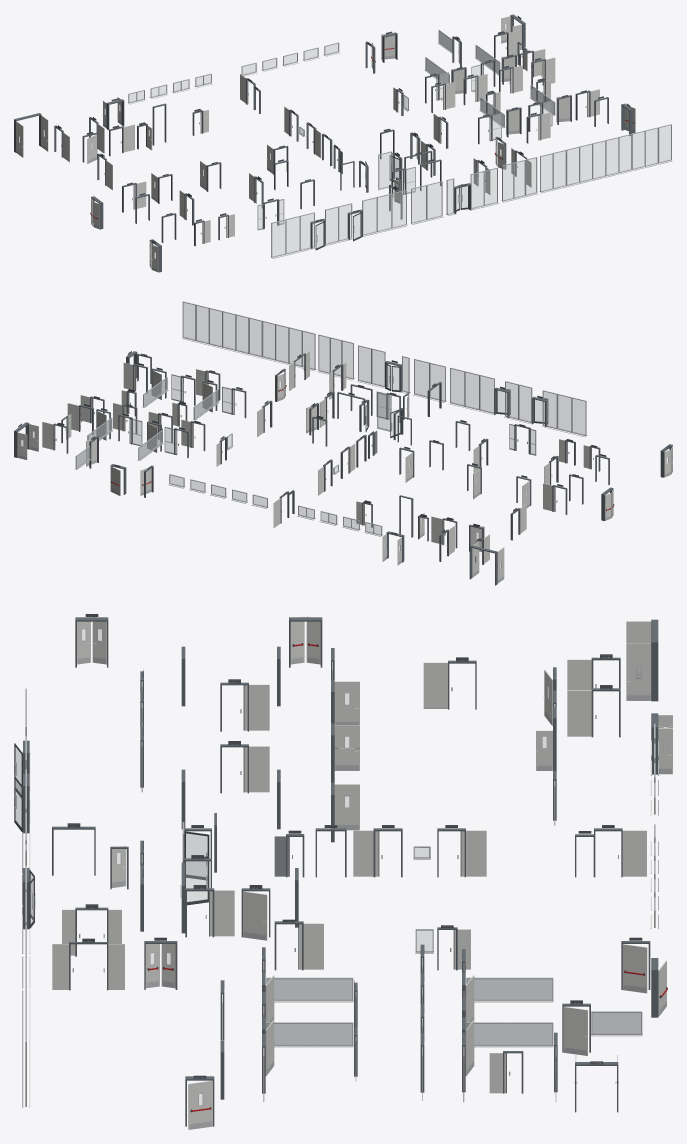
File: 09_n1_puertas.glb
3 views of the same model, one above another, from view 1: azimuth 30°, elevation 25°; view 2: azimuth 150°, elevation 25°; view 3: azimuth 270°, elevation 25° (orthographic). The views are drawn at different scales.
Parts seen in each view (by area): view 1: Puerta N1 · 10, Ventana N1 · 87, Ventana N1 · 86, Ventana N1 · 78, Ventana N1 · 84, Ventana N1 · 83, Ventana N1 · 85, Ventana N1 · 79, Ventana N1 · 94, Ventana N1 · 96, Ventana N1 · 102, Ventana N1 · 99 (+34 smaller); view 2: Puerta N1 · 10, Puerta N1 · 00, Ventana N1 · 83, Ventana N1 · 78, Ventana N1 · 84, Ventana N1 · 87, Ventana N1 · 85, Ventana N1 · 79, Ventana N1 · 86, Ventana N1 · 80, Ventana N1 · 97, Ventana N1 · 98 (+26 smaller); view 3: Puerta N1 · 10, Ventana N1 · 105, Ventana N1 · 107, Ventana N1 · 106, Ventana N1 · 108, Puerta N1 · 19, Puerta N1 · 54, Puerta N1 · 51, Puerta N1 · 44, Puerta N1 · 40, Puerta N1 · 55, Puerta N1 · 08 (+25 smaller).
Boxes of the visible parts, x1,y1,x2,y2 form: Puerta N1 · 10: (14,113,48,157); Ventana N1 · 87: (427,181,443,220); Ventana N1 · 86: (410,185,427,224); Ventana N1 · 78: (270,219,286,258); Ventana N1 · 84: (377,193,392,232); Ventana N1 · 83: (362,197,378,236); Ventana N1 · 85: (392,190,407,229); Ventana N1 · 79: (286,216,301,255); Ventana N1 · 94: (539,153,554,193); Ventana N1 · 96: (566,146,580,186); Ventana N1 · 102: (645,127,659,167); Ventana N1 · 99: (606,137,619,177); Puerta N1 · 10: (469,541,504,585); Puerta N1 · 00: (14,422,38,459); Ventana N1 · 83: (478,375,494,414); Ventana N1 · 78: (571,397,587,437); Ventana N1 · 84: (464,371,479,410); Ventana N1 · 87: (413,359,429,398); Ventana N1 · 85: (449,367,464,407); Ventana N1 · 79: (556,394,571,433); Ventana N1 · 86: (429,362,446,402); Ventana N1 · 80: (542,390,557,429); Ventana N1 · 97: (261,321,275,361); Ventana N1 · 98: (248,317,262,357); Puerta N1 · 10: (626,619,658,701); Ventana N1 · 105: (466,977,553,1002); Ventana N1 · 107: (266,977,353,1002); Ventana N1 · 106: (466,1022,553,1047); Ventana N1 · 108: (266,1022,353,1047); Puerta N1 · 19: (52,942,124,990); Puerta N1 · 54: (289,616,322,667); Puerta N1 · 51: (75,617,108,667); Puerta N1 · 44: (144,940,177,989); Puerta N1 · 40: (621,941,650,993); Puerta N1 · 55: (185,1076,214,1129); Puerta N1 · 08: (353,828,402,877).
Size of the model in its own units: 50.78 by 4.39 by 31.14.
Materials: 15 (1 with a texture image).
